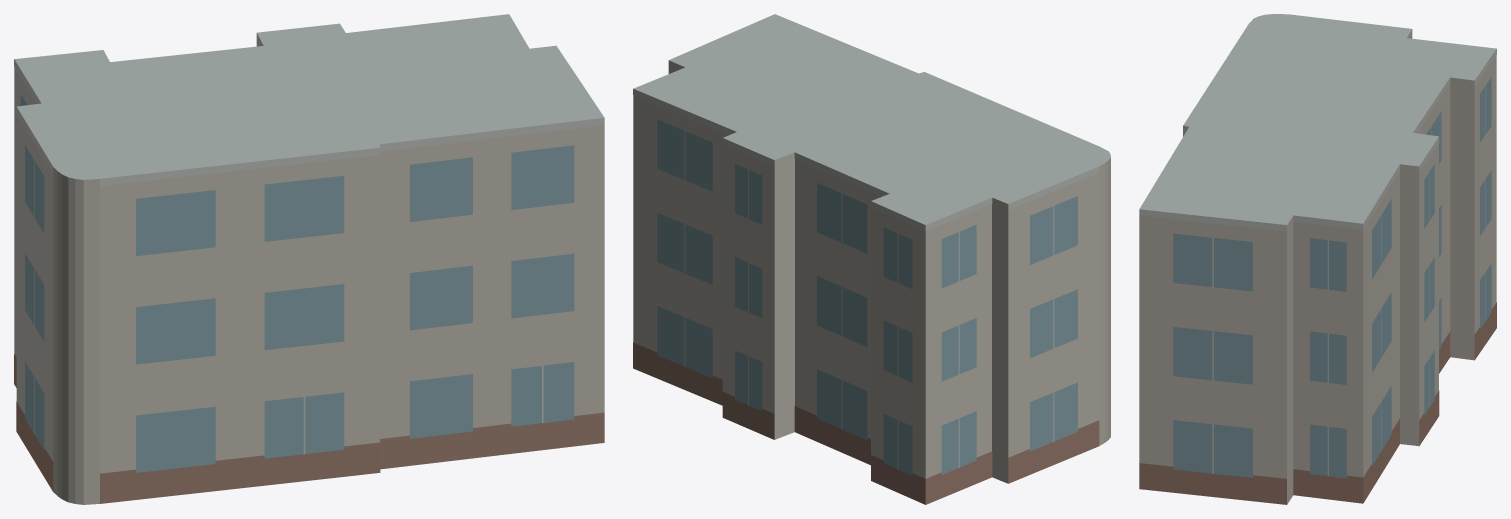
File: survey-upis-32755508.glb
3 views of the same model, side by side, from view 1: azimuth 30°, elevation 25°; view 2: azimuth 150°, elevation 25°; view 3: azimuth 270°, elevation 25° (orthographic). The views are drawn at different scales.
Parts seen in each view (by area): view 1: survey-upis-32755508.tmp; view 2: survey-upis-32755508.tmp; view 3: survey-upis-32755508.tmp.
Part boxes in pixels (bbox=[...]): survey-upis-32755508.tmp: bbox=[14, 14, 604, 504]; survey-upis-32755508.tmp: bbox=[633, 14, 1110, 504]; survey-upis-32755508.tmp: bbox=[1139, 14, 1496, 504].
Bounding box in the file's own units: 17.32 × 10.7 × 12.4.
